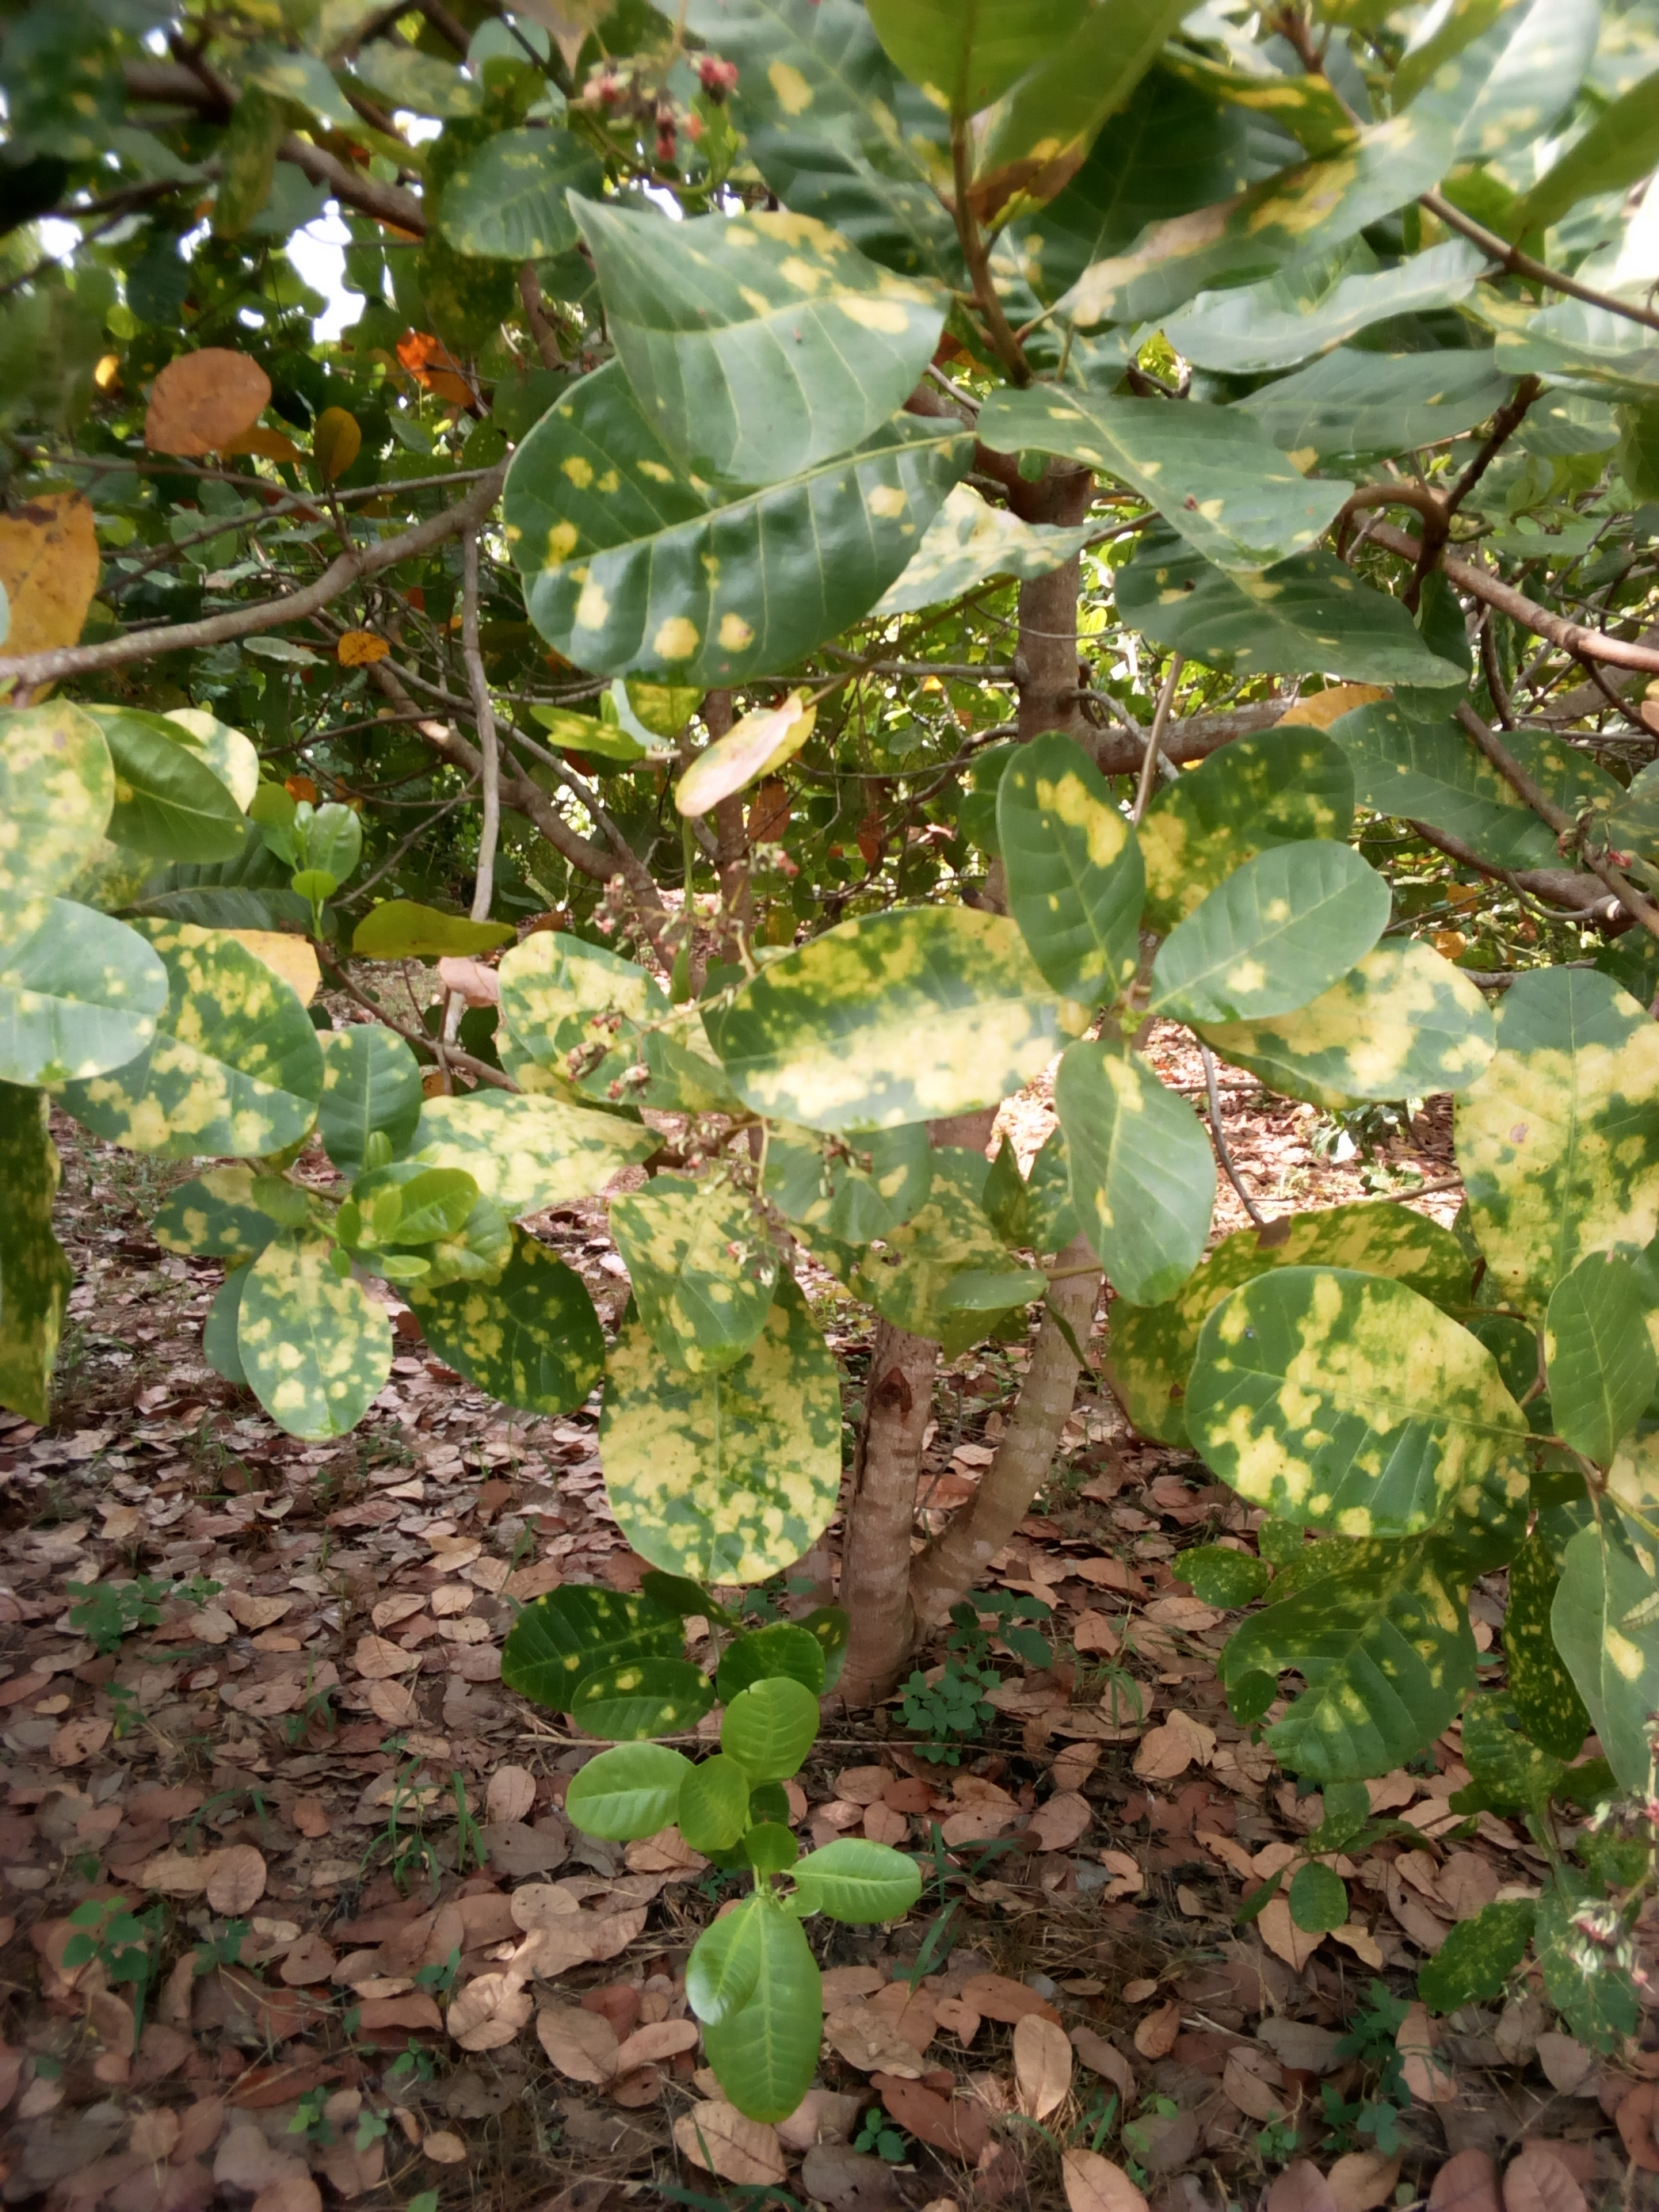Carence minérale: (1107, 0, 1640, 366), (477, 340, 1002, 679), (504, 181, 951, 482), (1171, 1249, 1565, 1540), (735, 895, 1202, 1123), (596, 1282, 861, 1597), (1094, 514, 1476, 705), (1446, 953, 1659, 1296), (972, 726, 1206, 1024), (1216, 1554, 1518, 1780), (481, 923, 775, 1134), (1033, 1031, 1243, 1324), (1342, 700, 1656, 883), (1223, 934, 1514, 1116), (819, 1150, 1026, 1371), (138, 948, 355, 1157), (223, 1221, 406, 1468), (0, 899, 200, 1109), (382, 103, 610, 286), (420, 1228, 626, 1428), (0, 648, 159, 899), (1554, 1554, 1656, 1818)
